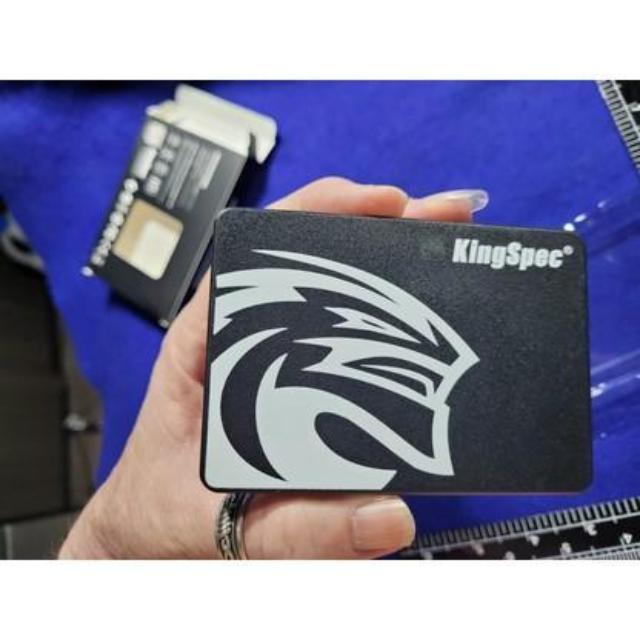DISK: (199, 200, 599, 502)
